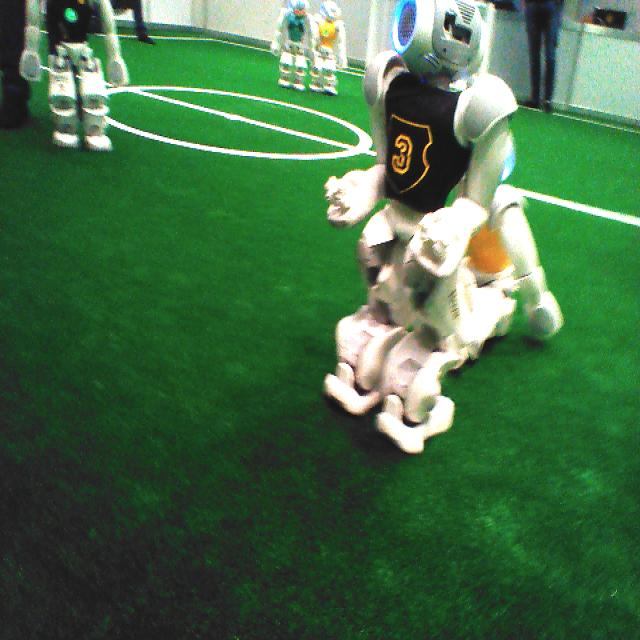goalpost: (480, 2, 496, 74), (365, 1, 382, 66)
